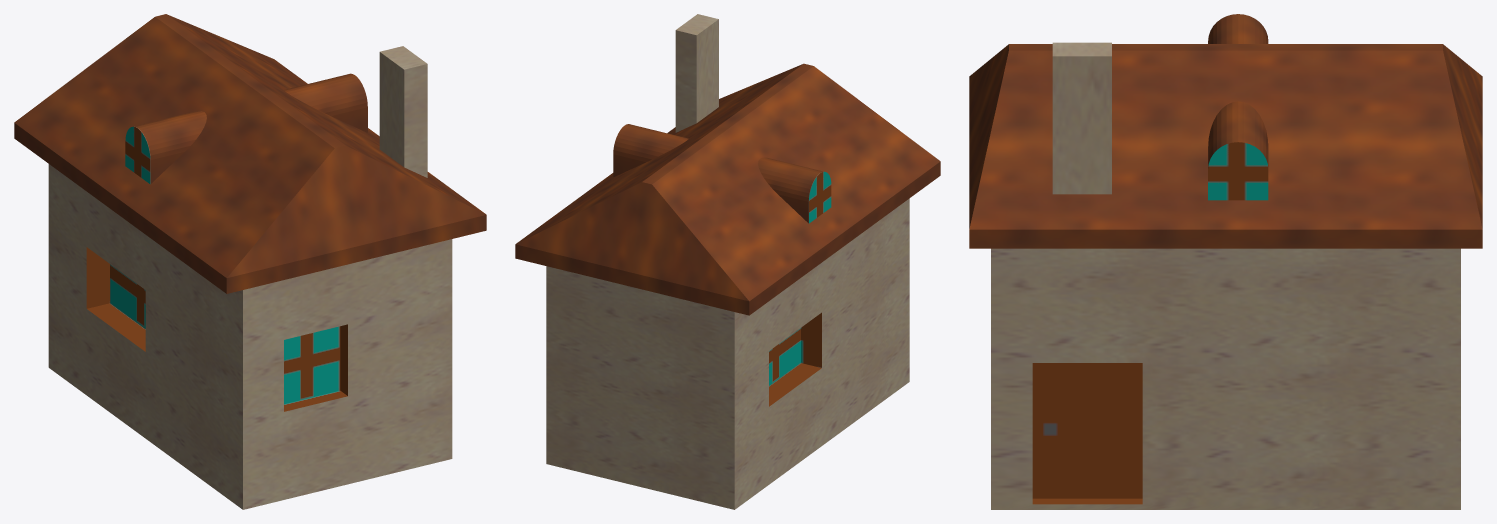
The model's file is House.fbx.
3 views of the same model, side by side, from view 1: azimuth 30°, elevation 25°; view 2: azimuth 150°, elevation 25°; view 3: azimuth 270°, elevation 25° (orthographic). The views are drawn at different scales.
Visible parts, largest first — view 1: Cube.002; view 2: Cube.002; view 3: Cube.002.
Boxes of the visible parts, bbox=[...] form: Cube.002: bbox=[14, 14, 486, 509]; Cube.002: bbox=[515, 14, 940, 509]; Cube.002: bbox=[969, 14, 1482, 509].
Size of the model in its own units: 483 by 667 by 683.
Materials: 1 (1 with a texture image).
